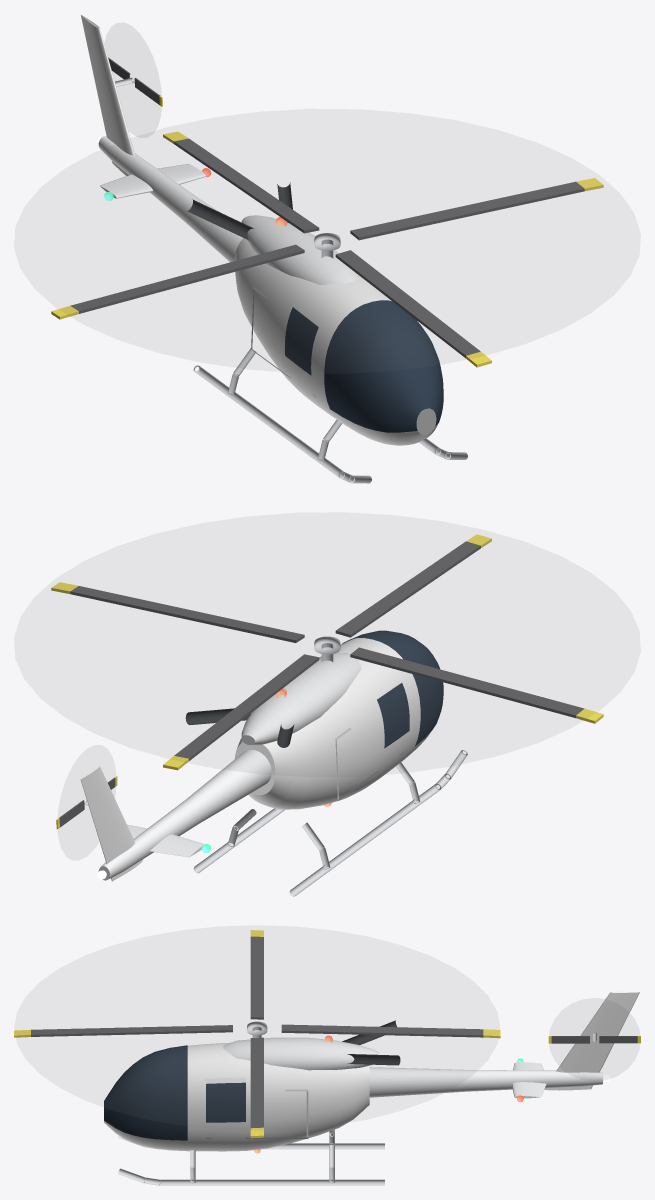
3 renders of one model, top to bottom at view 1: azimuth 30°, elevation 25°; view 2: azimuth 150°, elevation 25°; view 3: azimuth 270°, elevation 25°, orthographic. The views are drawn at different scales.
Parts seen in each view (by area): view 1: airframe, rotor; view 2: airframe, rotor; view 3: airframe, rotor, tail.
Part boxes in pixels (left/top/right/bottom): airframe: left=80, top=15, right=467, bottom=483; rotor: left=51, top=131, right=603, bottom=367; airframe: left=80, top=630, right=467, bottom=896; rotor: left=51, top=534, right=603, bottom=770; airframe: left=104, top=991, right=639, bottom=1185; rotor: left=14, top=930, right=500, bottom=1138; tail: left=548, top=1036, right=640, bottom=1043.
Bounding box in the file's own units: 14 × 5.65 × 18.04.
